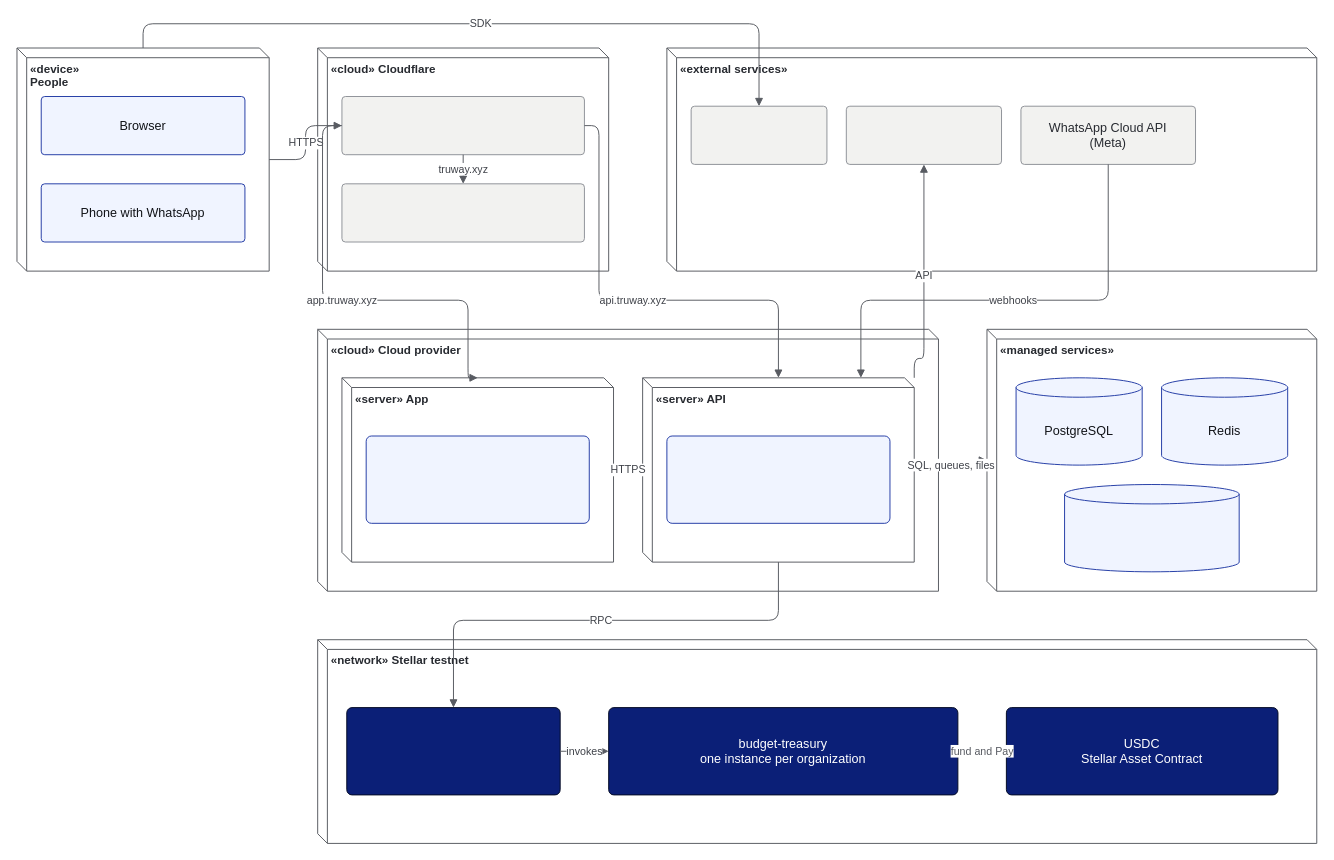
Image size: 1334x860. Some labels were removed from this diagram. Each missing label, with the centre of its shape:
"Google Gemini" goes at point (923, 134).
"NestJS and workers api.truway.xyz" goes at point (778, 479).
"Next.js app.truway.xyz" goes at point (477, 479).
"Object storage" goes at point (1151, 528).
"Privy" goes at point (758, 134).
"Stellar RPC" goes at point (453, 751).
"truway.xyz DNS" goes at point (462, 125).
"Website Cloudflare Pages" goes at point (462, 212).
